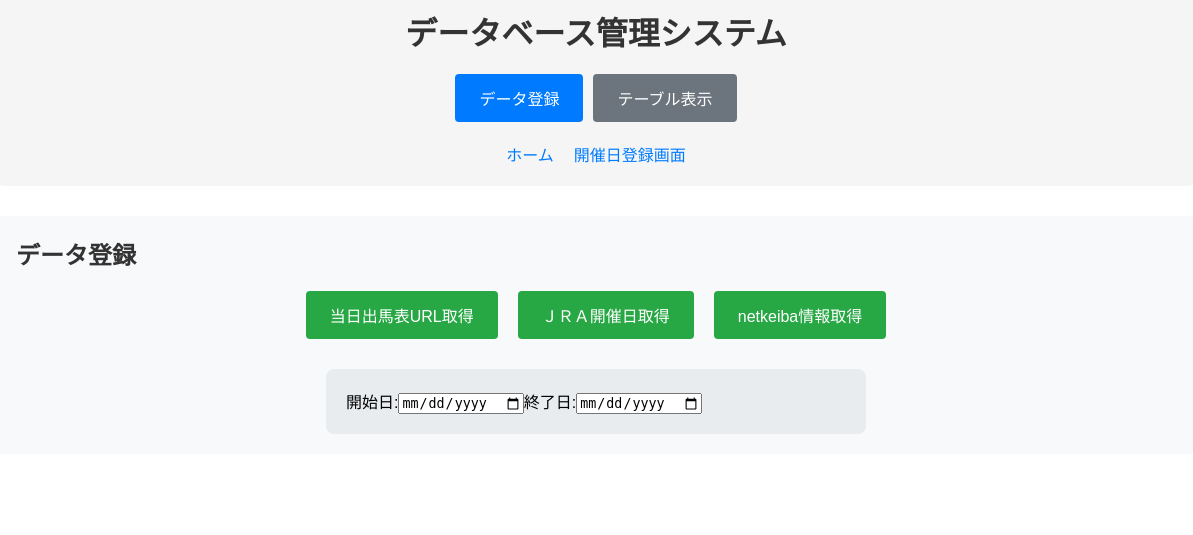
Test case: table scrolling › URL list shows previous-run fetches already registered in the database
Click the button "当日出馬表URL取得".
click(402, 315)  # box [306,291,498,339]
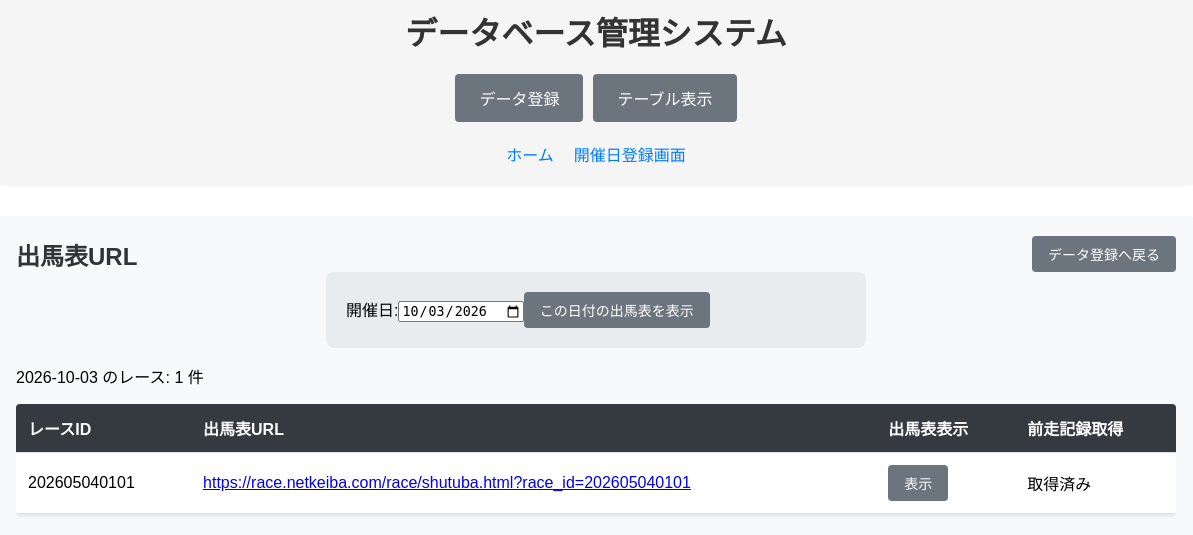
Now the text "取得済み" is shown, box [1015,452,1176,514]
